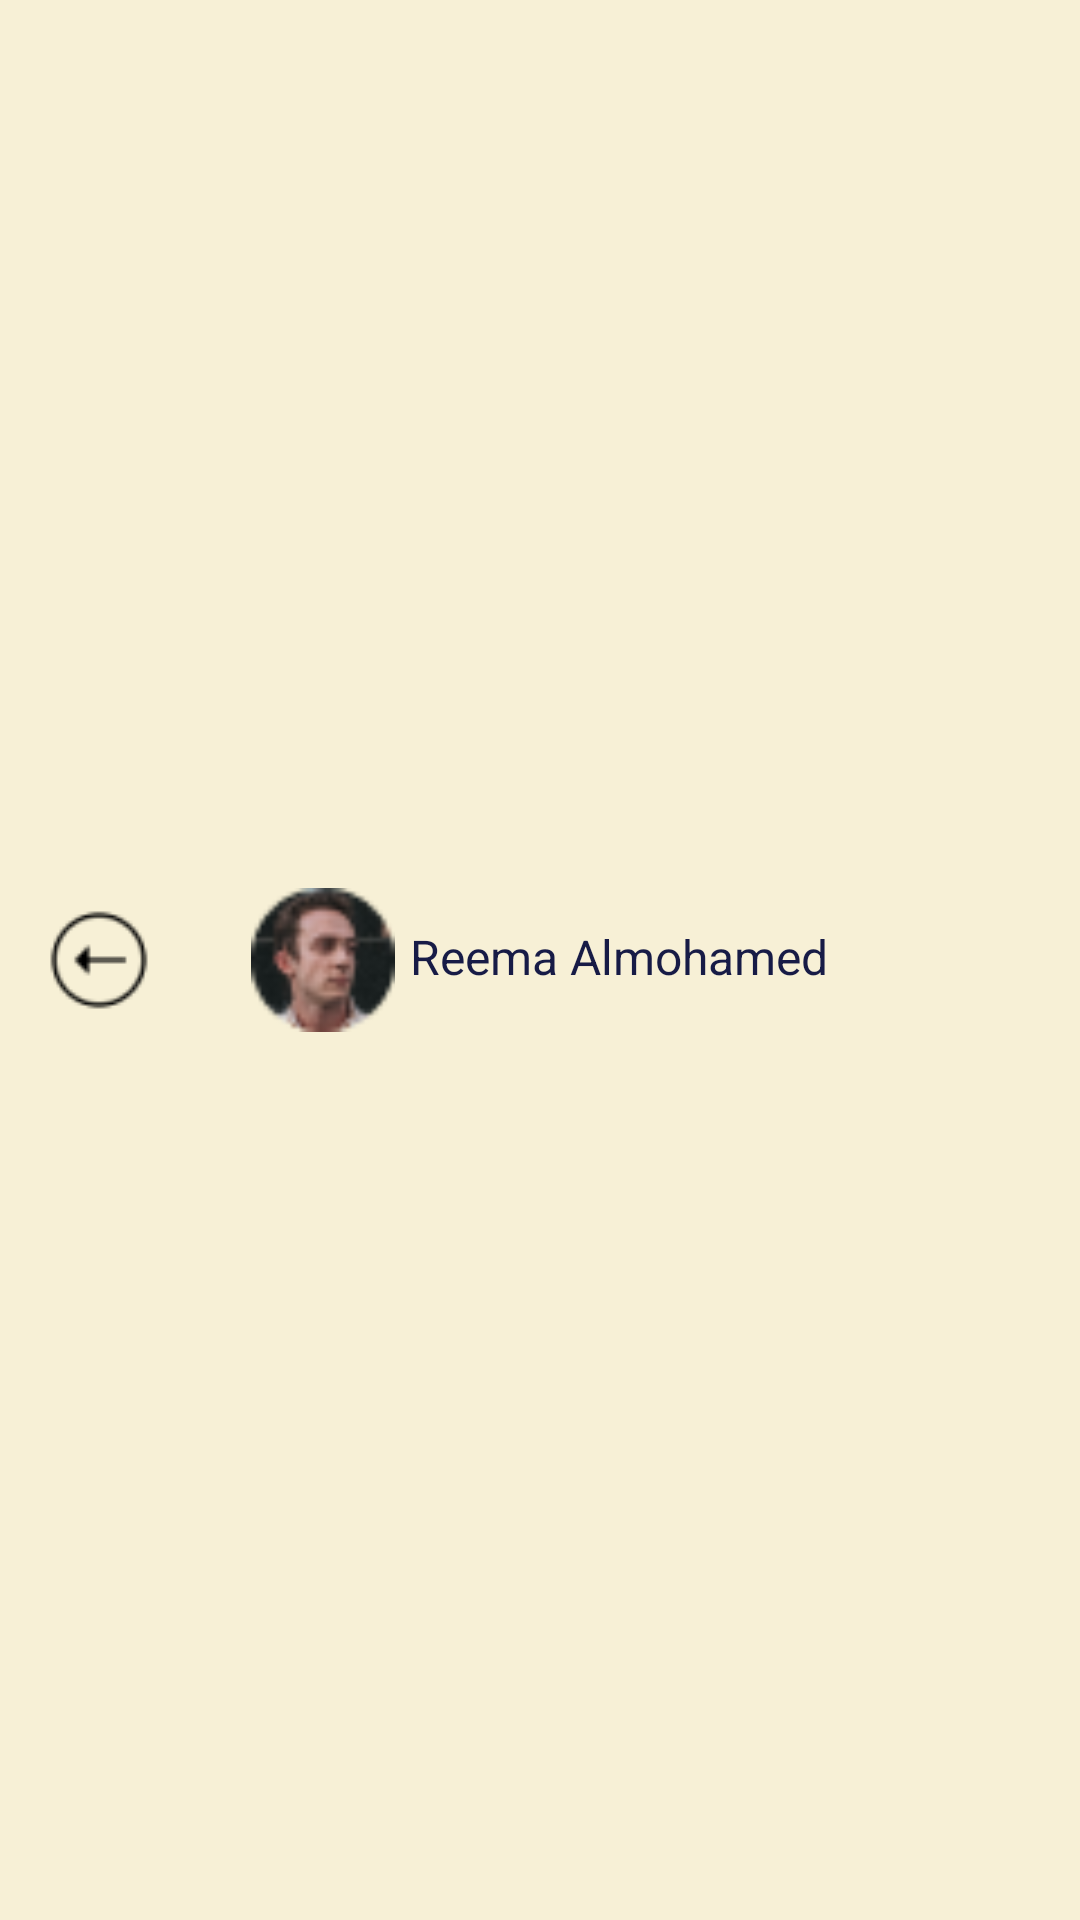

Icons on this 1080 × 1920 Android screen, each with the point to tap as point (x, y):
backarrow: point (99, 960)
profile: point (323, 960)
